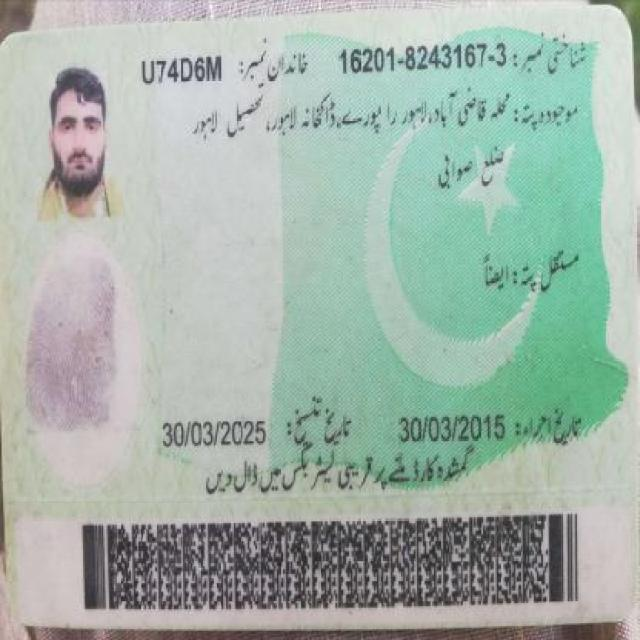Back: (12, 21, 618, 624)
